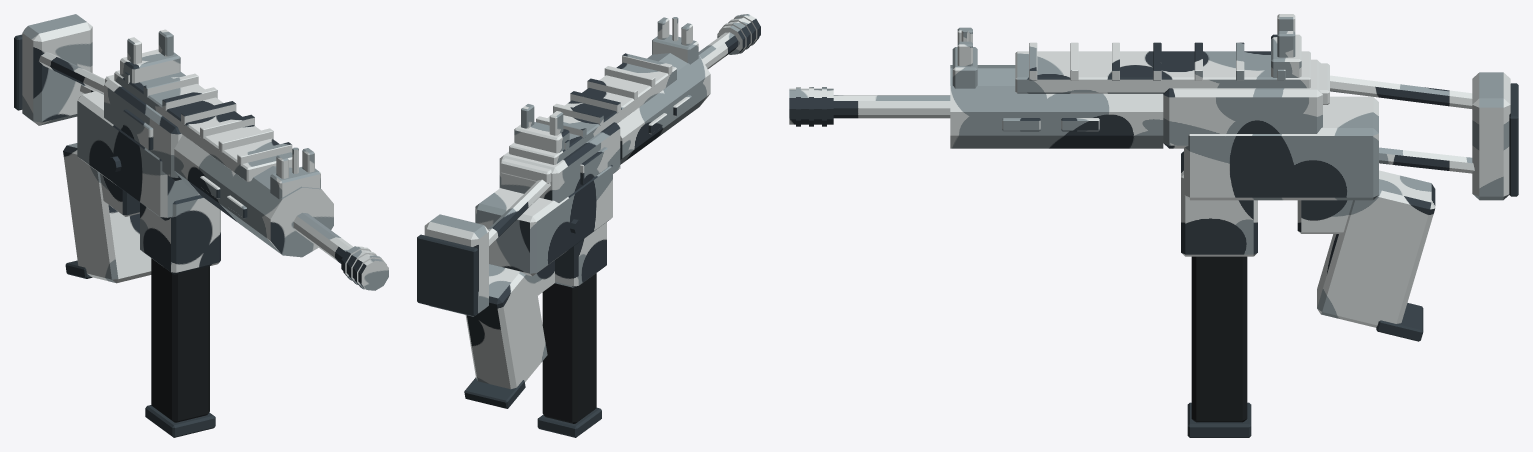
Rendered from MPX_SnowCamo.glb.
The picture shows the model from 3 angles, left to right: view 1: azimuth 30°, elevation 25°; view 2: azimuth 150°, elevation 25°; view 3: azimuth 270°, elevation 25°; orthographic projection. The views are drawn at different scales.
Visible parts, largest first — view 1: FTF_Weapon_MPX_RuralCamo_Mesh; view 2: FTF_Weapon_MPX_RuralCamo_Mesh; view 3: FTF_Weapon_MPX_RuralCamo_Mesh.
Part boxes in pixels (x1,y1,x2,y2): FTF_Weapon_MPX_RuralCamo_Mesh: [14, 14, 388, 437]; FTF_Weapon_MPX_RuralCamo_Mesh: [417, 14, 760, 437]; FTF_Weapon_MPX_RuralCamo_Mesh: [789, 14, 1518, 437].
Size of the model in its own units: 0.1595 by 0.7525 by 1.23.
Materials: 3 (1 with a texture image).
